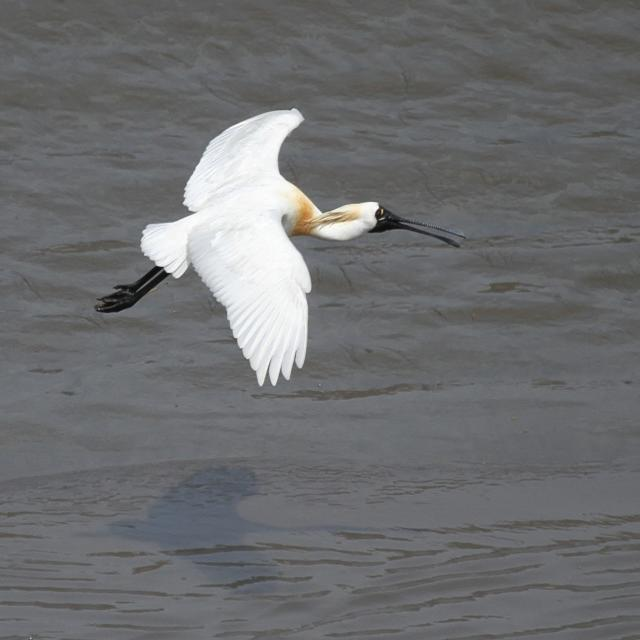Black-faced spoonbill: (96, 109, 464, 385)
